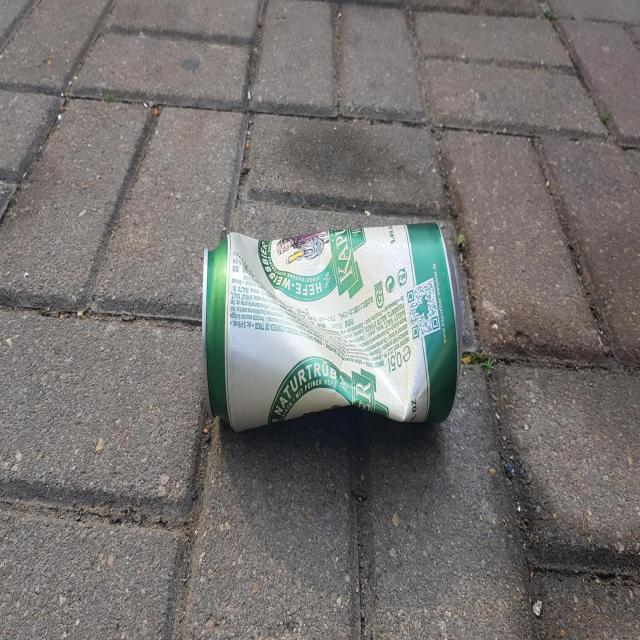can: (202, 222, 462, 430)
